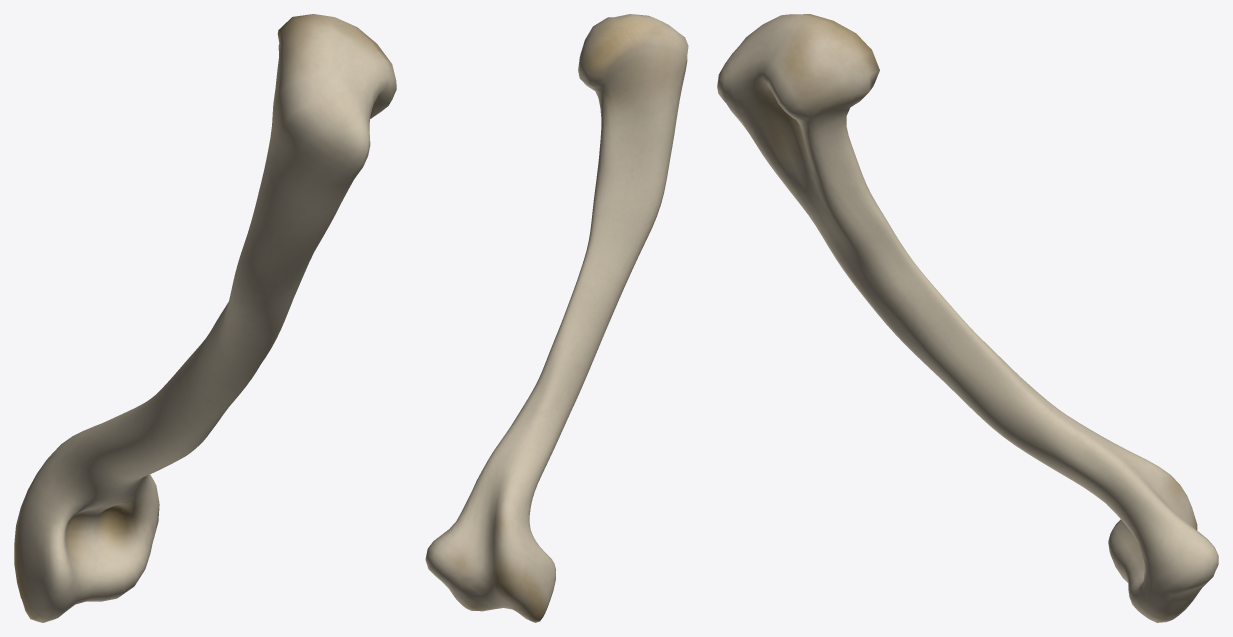
The model's file is R Humerus.fbx.
The picture shows the model from 3 angles, left to right: view 1: azimuth 30°, elevation 25°; view 2: azimuth 150°, elevation 25°; view 3: azimuth 270°, elevation 25°; orthographic projection. The views are drawn at different scales.
Visible parts, largest first — view 1: R Humerus; view 2: R Humerus; view 3: R Humerus.
Boxes of the visible parts, x1,y1,x2,y2 form: R Humerus: (14,14,396,622); R Humerus: (425,14,688,622); R Humerus: (717,14,1218,622).
Size of the model in its own units: 7.47 by 34.86 by 26.32.
